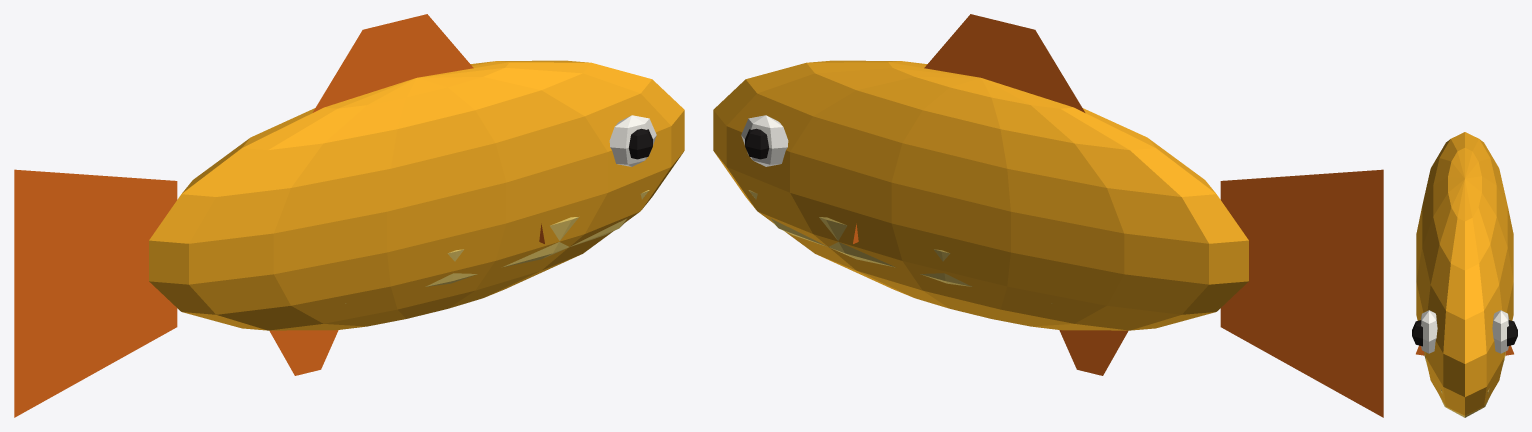
File: fish_dourado.obj
3 views of the same model, side by side, from view 1: azimuth 30°, elevation 25°; view 2: azimuth 150°, elevation 25°; view 3: azimuth 270°, elevation 25° (orthographic). The views are drawn at different scales.
Visible parts, largest first — view 1: fish; view 2: fish; view 3: fish.
Boxes of the visible parts, x1=… form: fish: x1=14, y1=14, x2=684, y2=417; fish: x1=713, y1=14, x2=1383, y2=417; fish: x1=1412, y1=132, x2=1517, y2=417.
Size of the model in its own units: 0.7148 by 0.336 by 0.1202.
